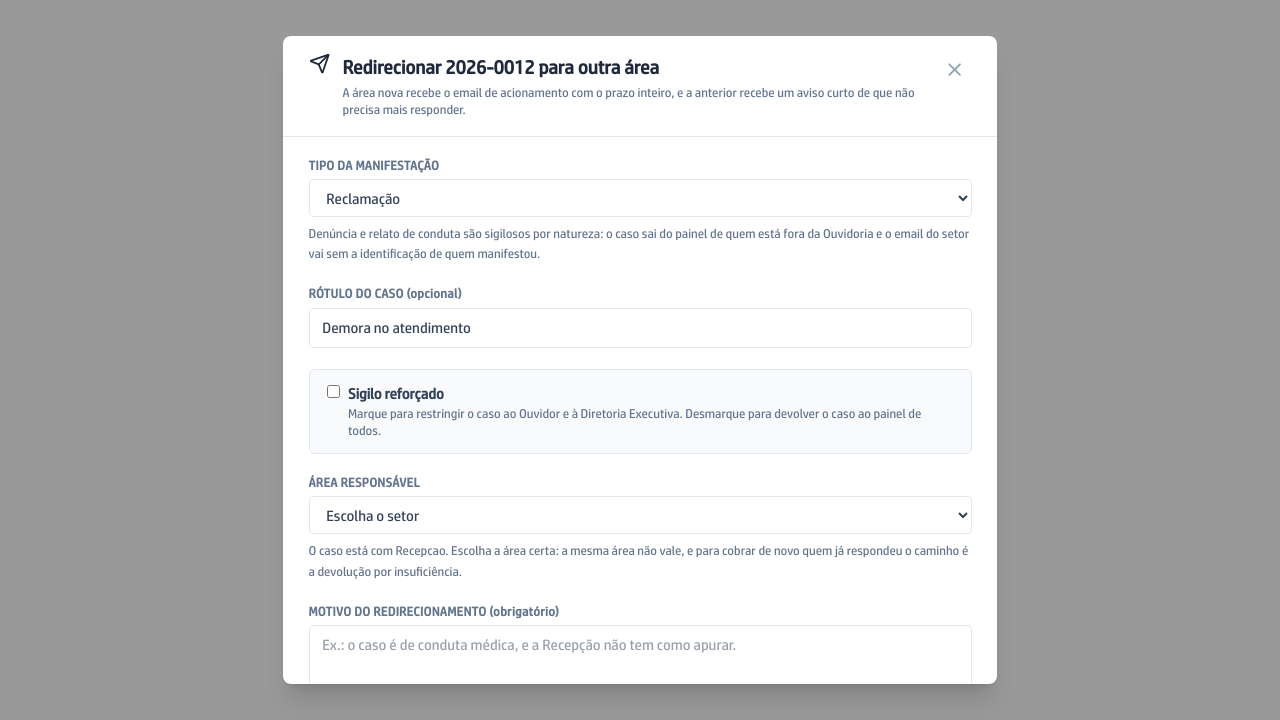
Scenario: o motivo é obrigatório, e quem tem o que dizer passa › sem área escolhida não confirma, nem com motivo escrito
Replace the text in the text box labelled "Motivo do redirecionamento (obrigatório)" with "O caso é de conduta médica, e a Recepção não tem como apurar." at (640, 660), box [308,625,972,695]
(page scrolled)
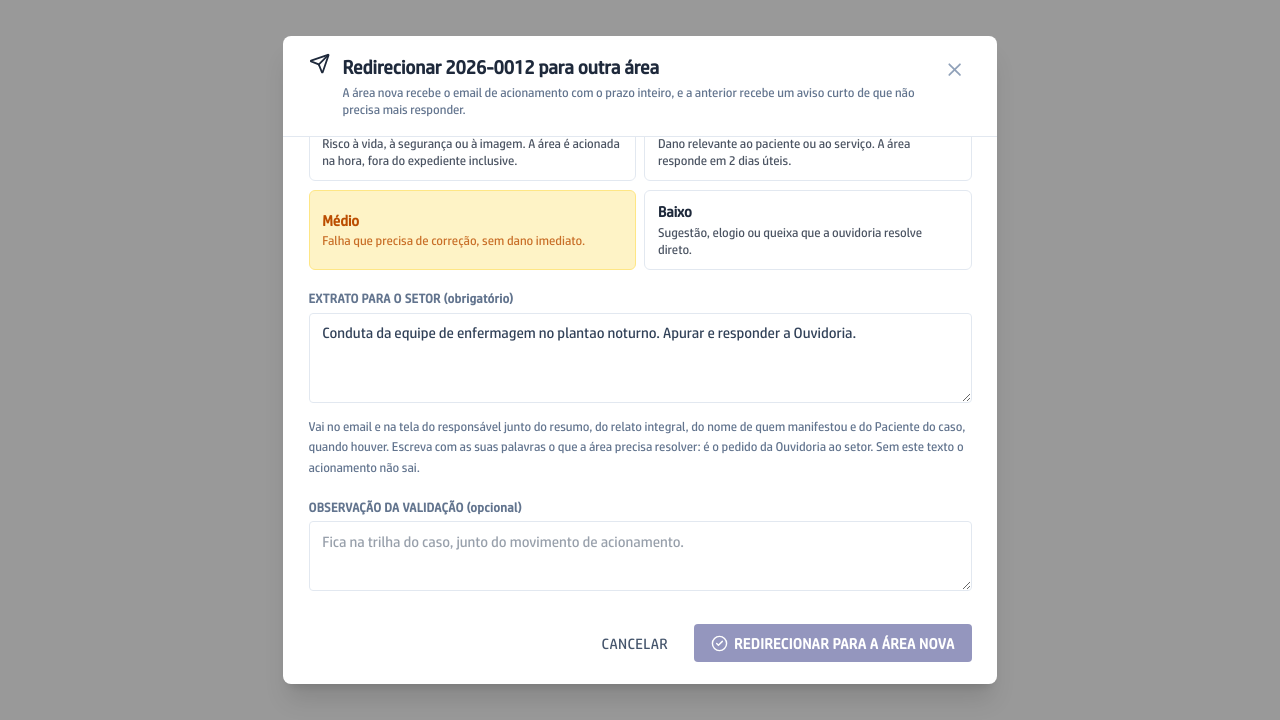
Result: the button "Redirecionar para a área nova" is disabled at [694,624,972,662]
